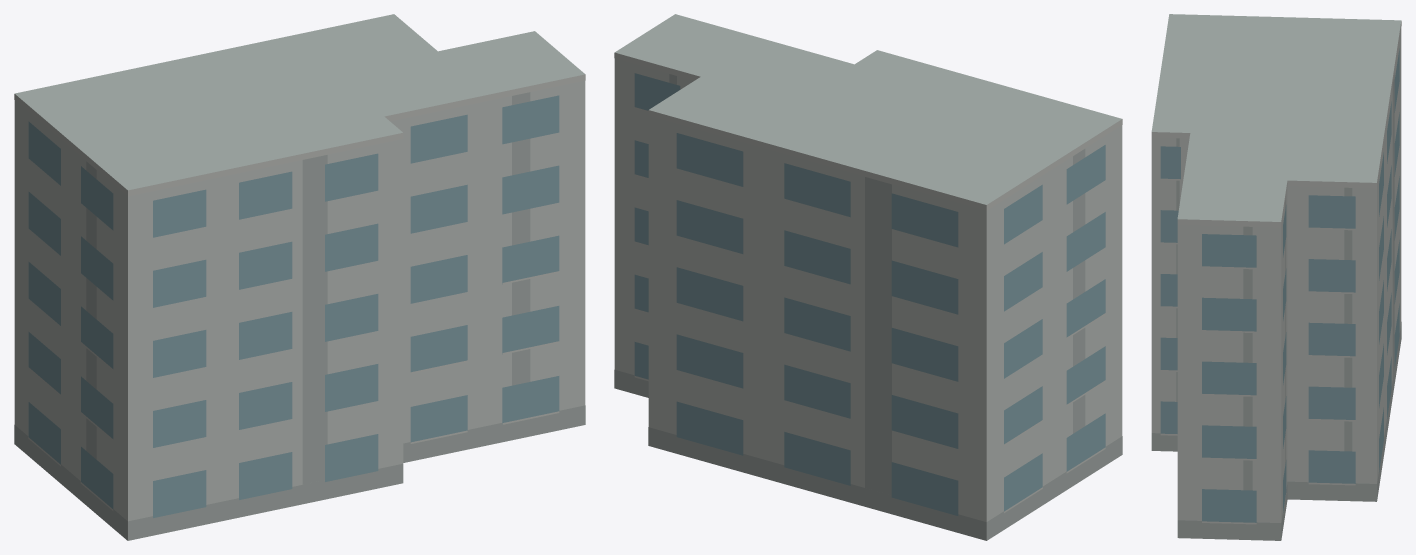
The model's file is residential-8b7d22ac-d060-4956-af10-96c91fc95baf.glb.
3 views of the same model, side by side, from view 1: azimuth 30°, elevation 25°; view 2: azimuth 150°, elevation 25°; view 3: azimuth 270°, elevation 25° (orthographic). The views are drawn at different scales.
Visible parts, largest first — view 1: residential-8b7d22ac-d060-4956-af10-96c91fc95baf.tmp; view 2: residential-8b7d22ac-d060-4956-af10-96c91fc95baf.tmp; view 3: residential-8b7d22ac-d060-4956-af10-96c91fc95baf.tmp.
Part boxes in pixels (x1,y1,x2,y2): residential-8b7d22ac-d060-4956-af10-96c91fc95baf.tmp: (14,14,585,540); residential-8b7d22ac-d060-4956-af10-96c91fc95baf.tmp: (614,14,1122,540); residential-8b7d22ac-d060-4956-af10-96c91fc95baf.tmp: (1151,14,1401,540).
Size of the model in its own units: 19.25 by 13.75 by 9.77.
